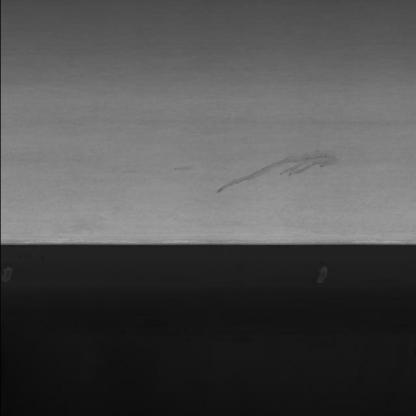water_spot: (206, 139, 343, 198)
